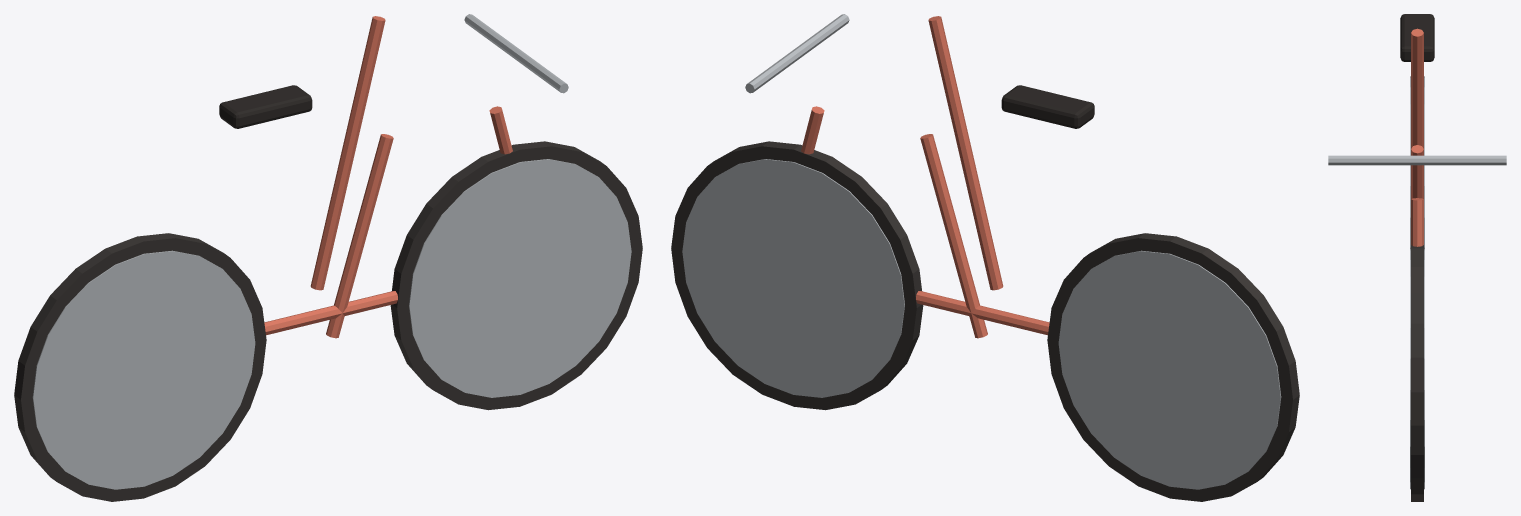
The model's file is hh_bicycle_home.glb.
3 views of the same model, side by side, from view 1: azimuth 30°, elevation 25°; view 2: azimuth 150°, elevation 25°; view 3: azimuth 270°, elevation 25° (orthographic). The views are drawn at different scales.
Parts seen in each view (by area): view 1: rim, rim.001, tyre, tyre.001, top_tube, seat_tube, saddle, down_tube, handlebar; view 2: rim, rim.001, tyre, tyre.001, top_tube, seat_tube, saddle, down_tube, handlebar; view 3: tyre.001, handlebar, top_tube, saddle, fork, seat_tube, rim.001, rim.
Part boxes in pixels (bbox=[...]): rim: bbox=[32, 250, 255, 489]; rim.001: bbox=[409, 159, 631, 397]; tyre: bbox=[14, 233, 266, 501]; tyre.001: bbox=[390, 141, 642, 410]; top_tube: bbox=[310, 16, 385, 290]; seat_tube: bbox=[326, 134, 393, 338]; saddle: bbox=[219, 85, 312, 128]; down_tube: bbox=[264, 291, 397, 335]; handlebar: bbox=[464, 14, 568, 93]; rim: bbox=[1058, 250, 1281, 489]; rim.001: bbox=[682, 159, 904, 397]; tyre: bbox=[1047, 233, 1299, 501]; tyre.001: bbox=[671, 141, 923, 410]; top_tube: bbox=[928, 16, 1003, 290]; seat_tube: bbox=[920, 134, 987, 338]; saddle: bbox=[1001, 85, 1094, 128]; down_tube: bbox=[916, 291, 1049, 335]; handlebar: bbox=[745, 14, 849, 93]; tyre.001: bbox=[1411, 245, 1423, 501]; handlebar: bbox=[1328, 155, 1506, 165]; top_tube: bbox=[1411, 28, 1423, 148]; saddle: bbox=[1400, 14, 1434, 61]; fork: bbox=[1411, 198, 1423, 246]; seat_tube: bbox=[1411, 145, 1423, 198]; rim.001: bbox=[1410, 249, 1424, 489]; rim: bbox=[1410, 76, 1424, 248].
Bounding box in the file's own units: 1.59 × 1.03 × 0.42.
